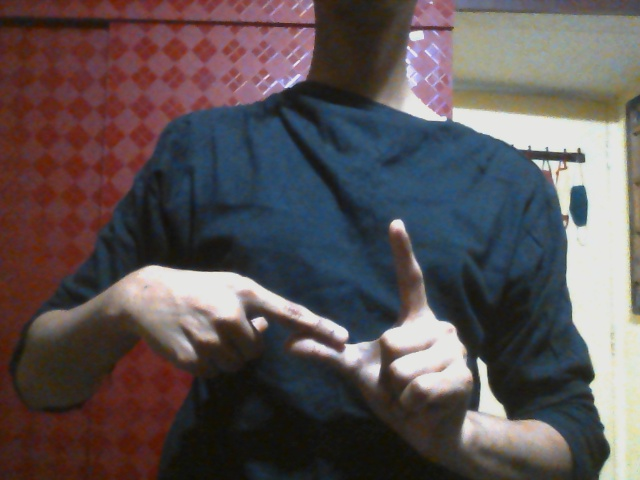J: (132, 217, 471, 427)
